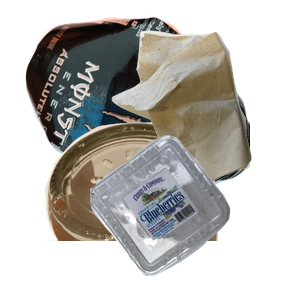glass: (22, 120, 233, 300)
metal: (23, 15, 263, 195)
plastic: (88, 133, 300, 300)
trash: (109, 28, 300, 208)
